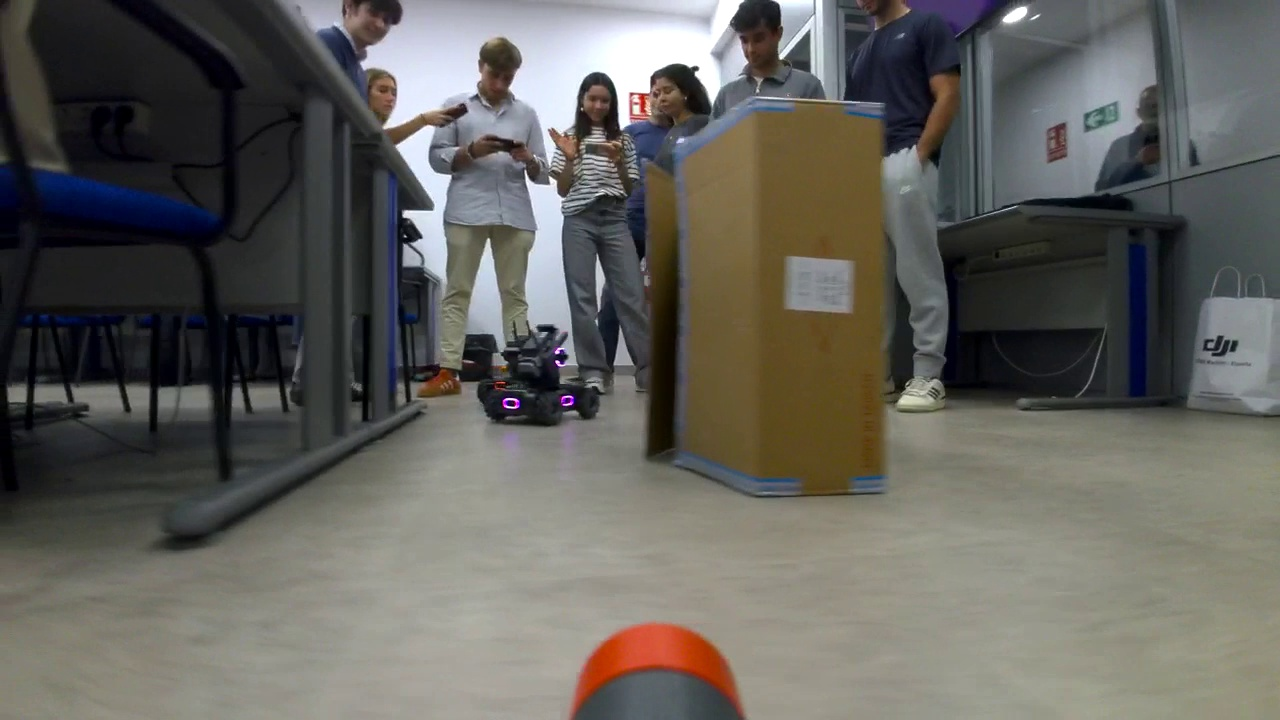robot: (476, 323, 596, 419)
